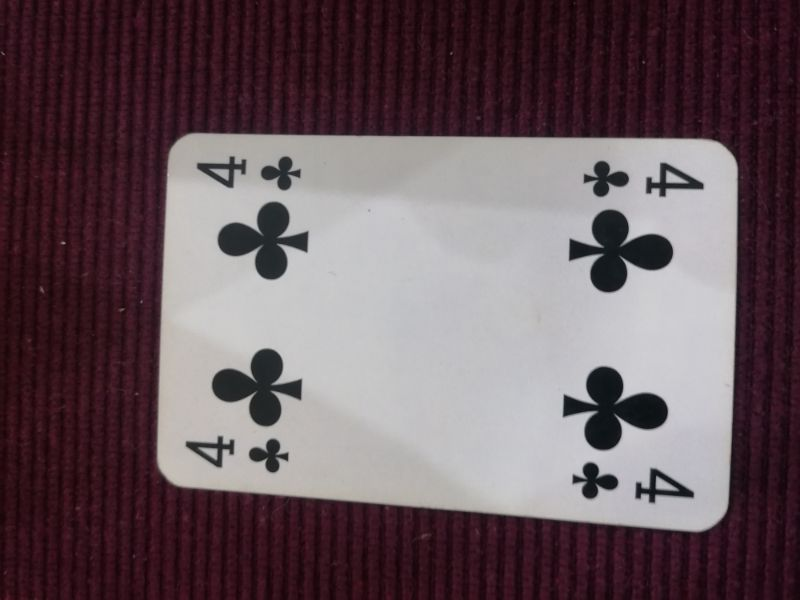4c: (578, 154, 707, 205), (565, 459, 698, 506), (191, 150, 312, 193), (179, 433, 296, 476)
